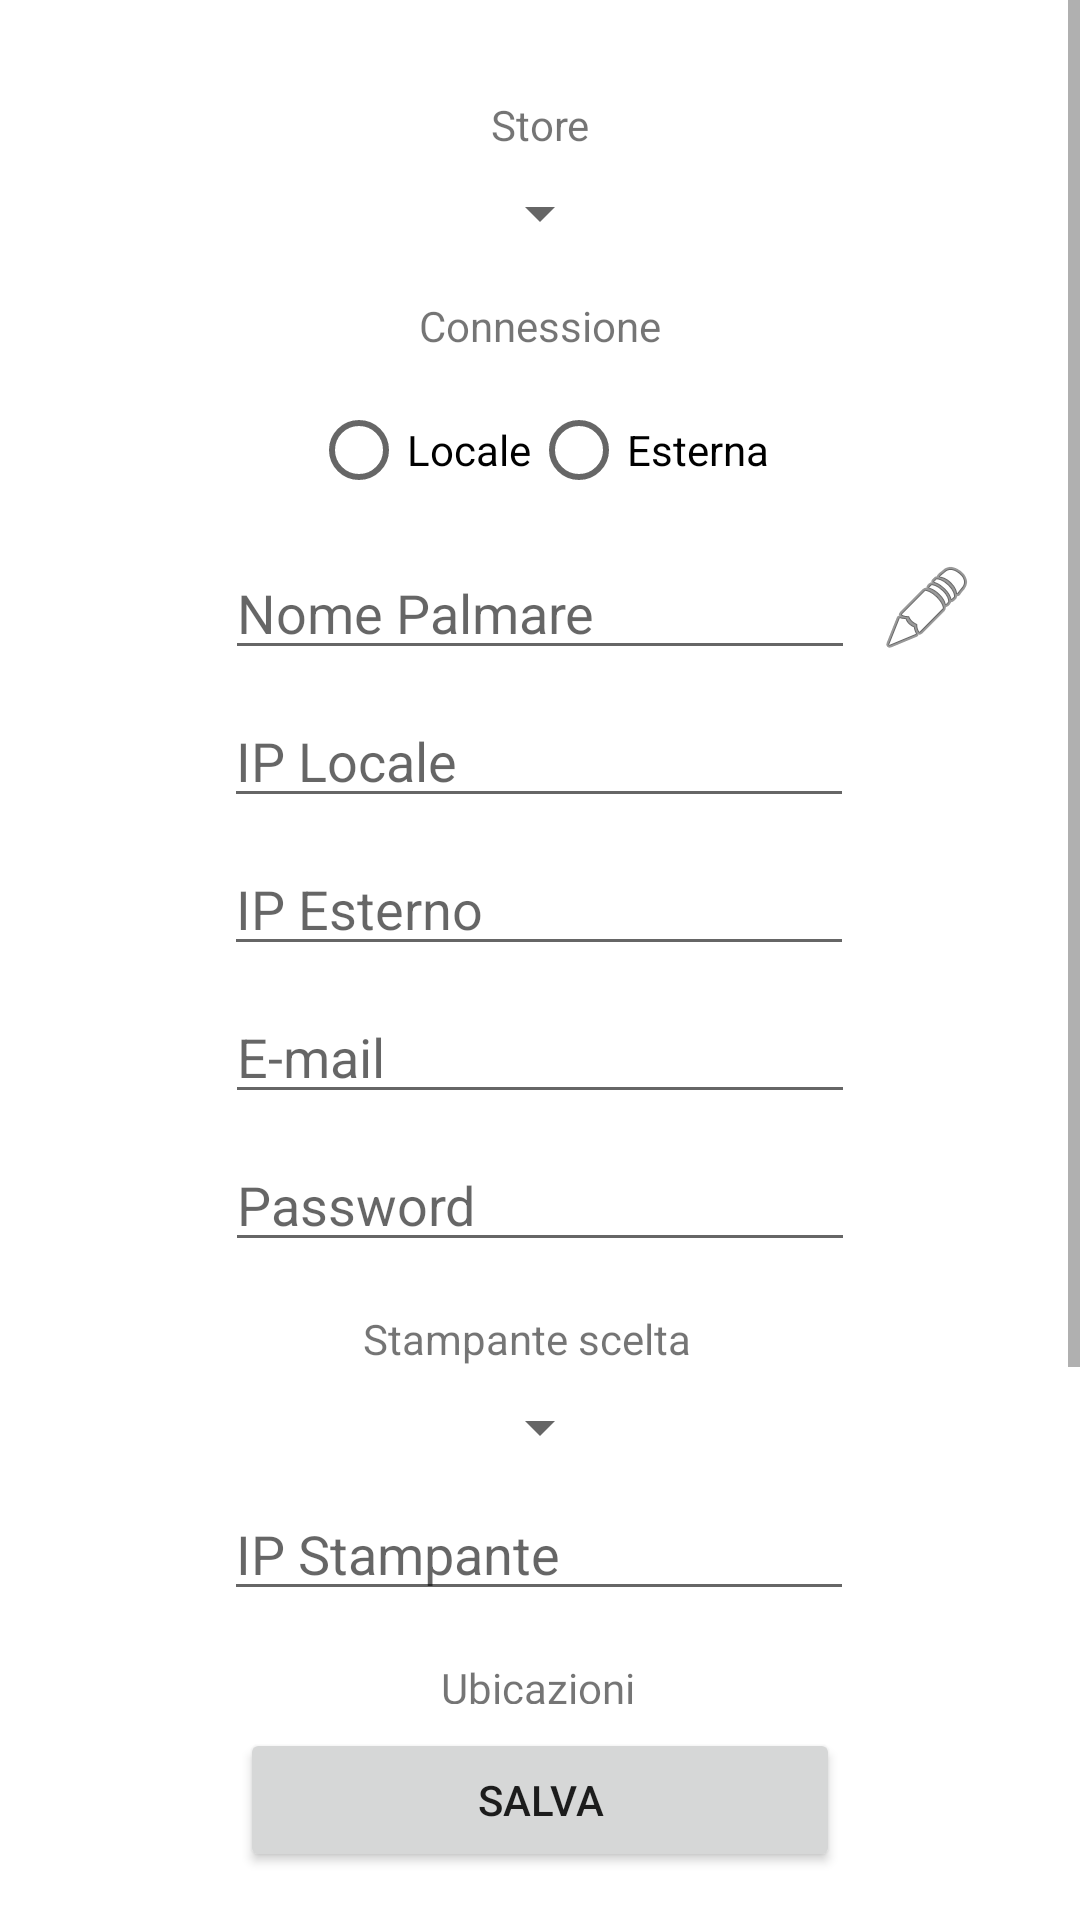

Screen size 1080x1920. Icon name, then its box in pixels as bbox=(x1, y1, x2, y2):
edit: bbox=(886, 567, 967, 648)
